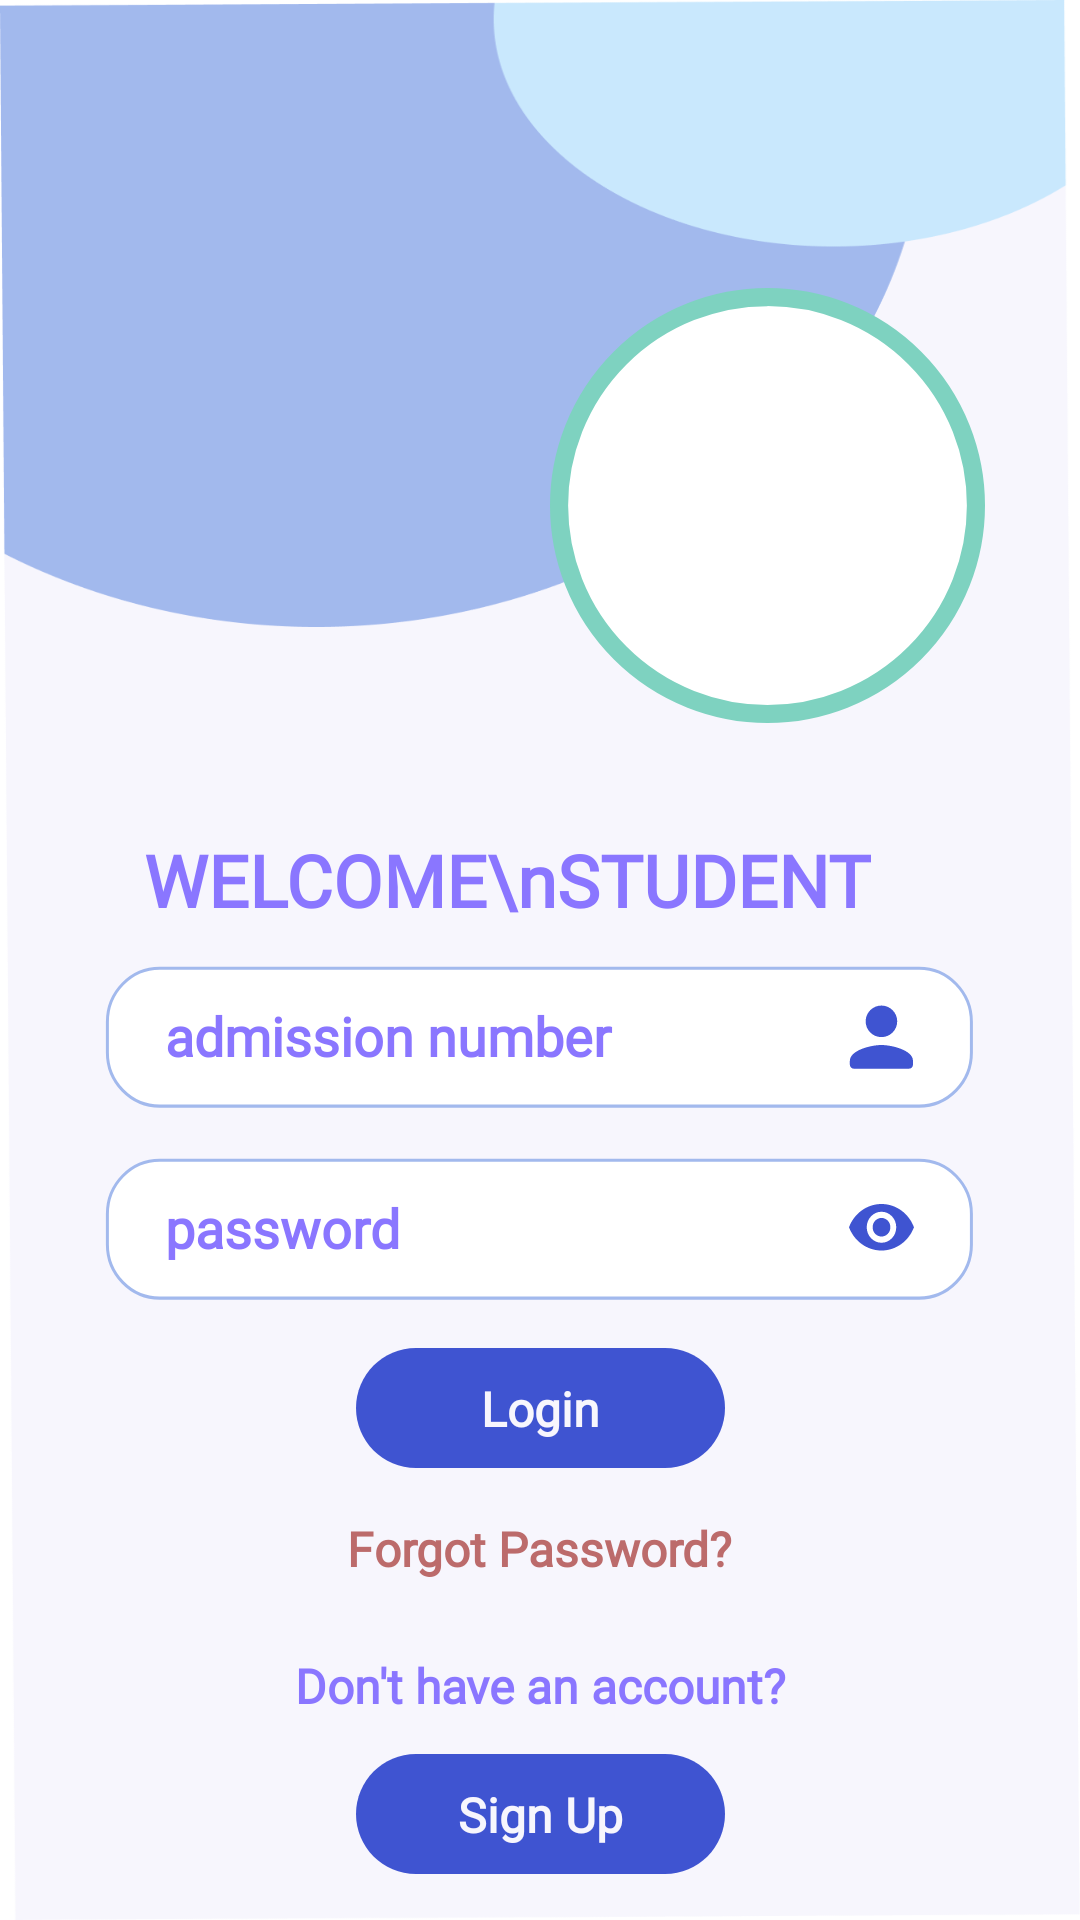

Named icons in this screenshot (1080x1920) and their centers, [x,y]:
profile: [881,1037]
visible: [881,1227]
